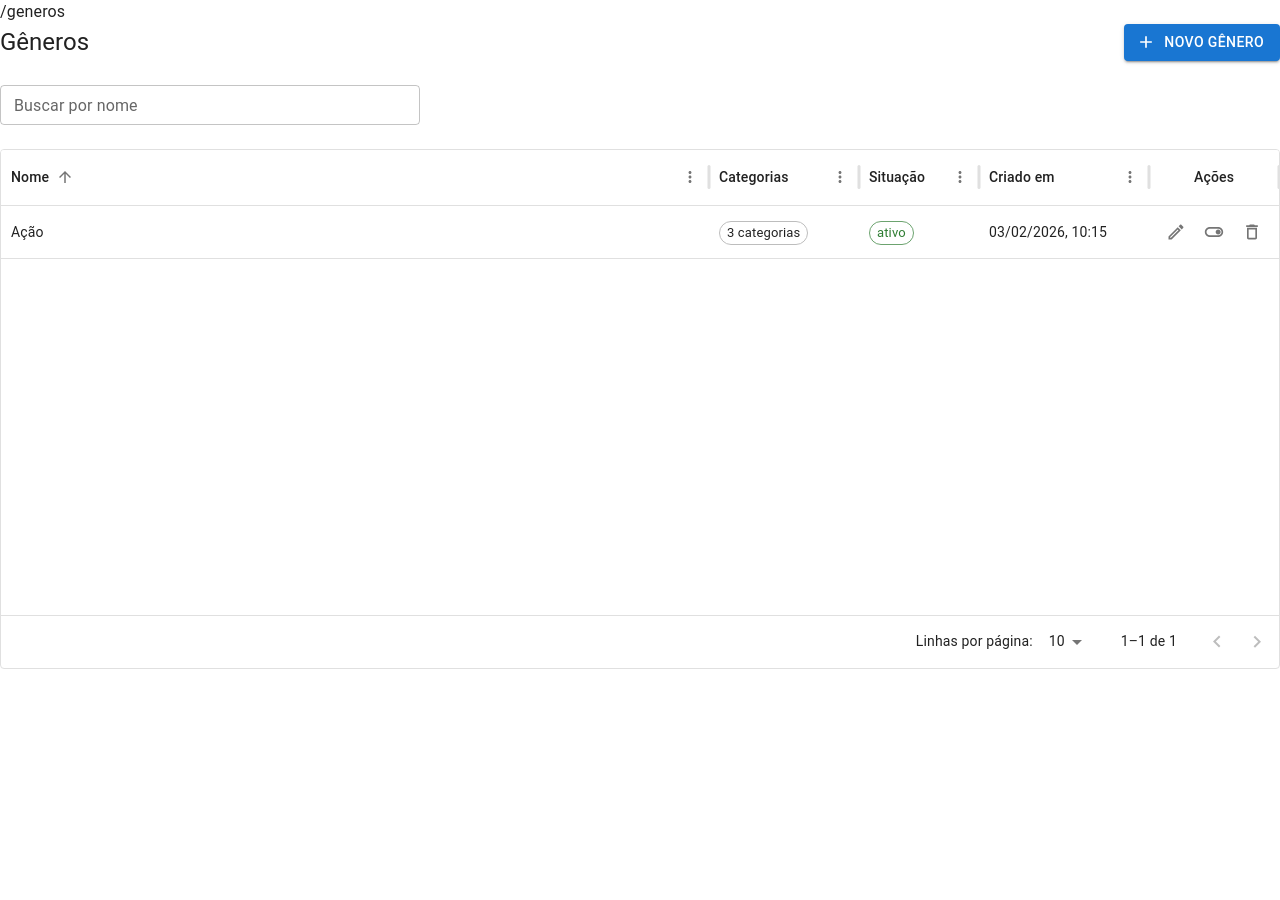
GenreList › givenAPerguntaAberta_whenConfirma_thenChamaODelete
Check: the text "Ação" is shown, box [11,224,44,240]
Click the menu item named "Remover": (1252,232) [1237,217,1267,247]
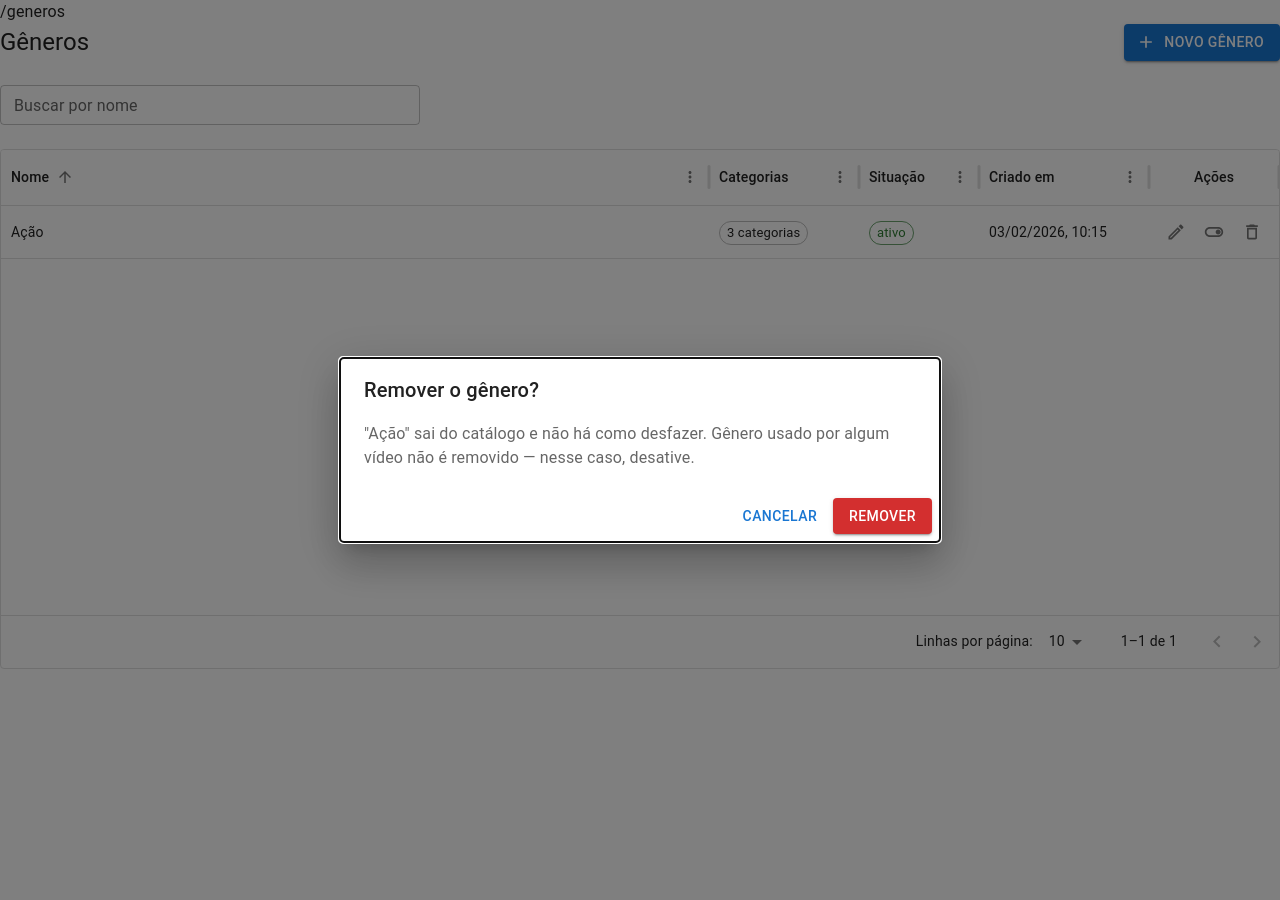
Click the button "Remover": (882,516) [833,498,932,534]
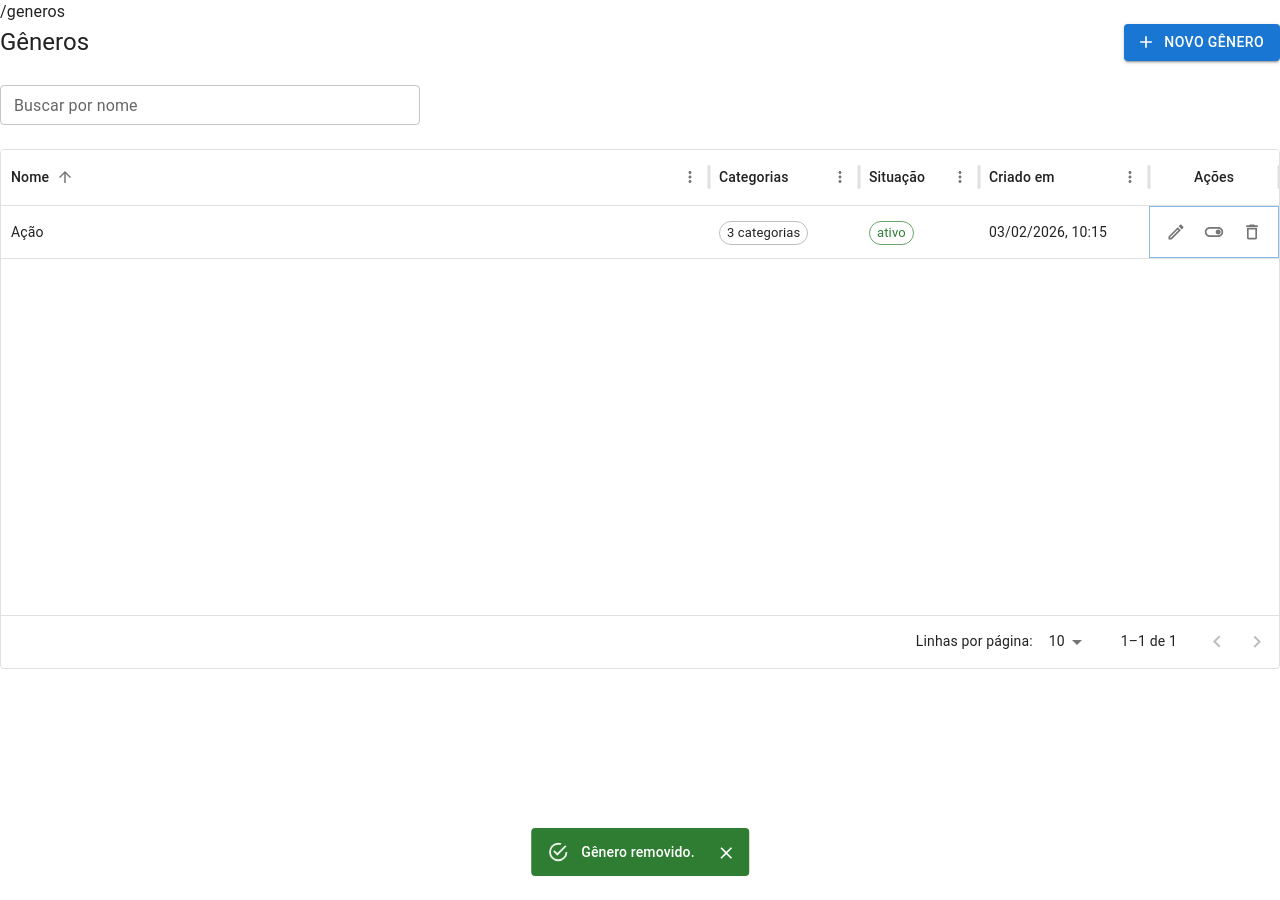
Check: the text "Gênero removido." is shown, box [581,844,695,860]
